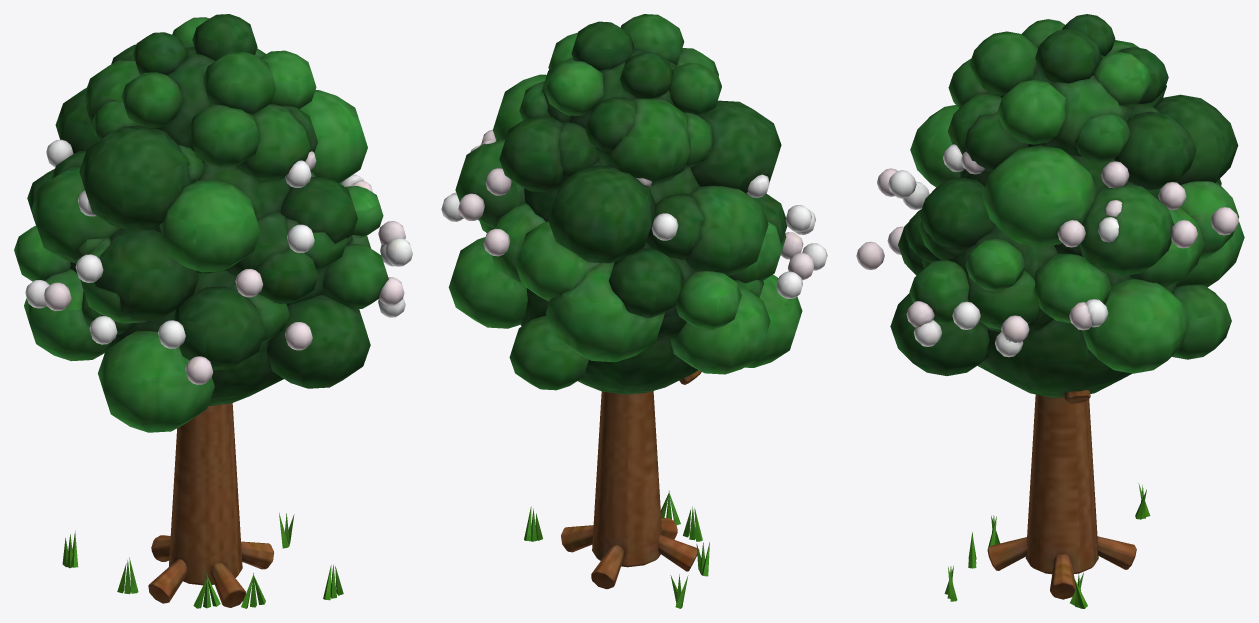
The model's file is black_cherry_tree.glb.
The picture shows the model from 3 angles, left to right: view 1: azimuth 30°, elevation 25°; view 2: azimuth 150°, elevation 25°; view 3: azimuth 270°, elevation 25°; orthographic projection. The views are drawn at different scales.
Visible parts, largest first — view 1: crown, black_cherry_tree; view 2: crown, black_cherry_tree; view 3: crown, black_cherry_tree.
Boxes of the visible parts, bbox=[...] form: crown: bbox=[14, 14, 412, 432]; black_cherry_tree: bbox=[62, 403, 343, 608]; crown: bbox=[441, 14, 827, 394]; black_cherry_tree: bbox=[524, 370, 709, 608]; crown: bbox=[856, 14, 1244, 397]; black_cherry_tree: bbox=[944, 390, 1150, 608].
Size of the model in its own units: 1 by 1.49 by 0.952.
Materials: 1 (1 with a texture image).
